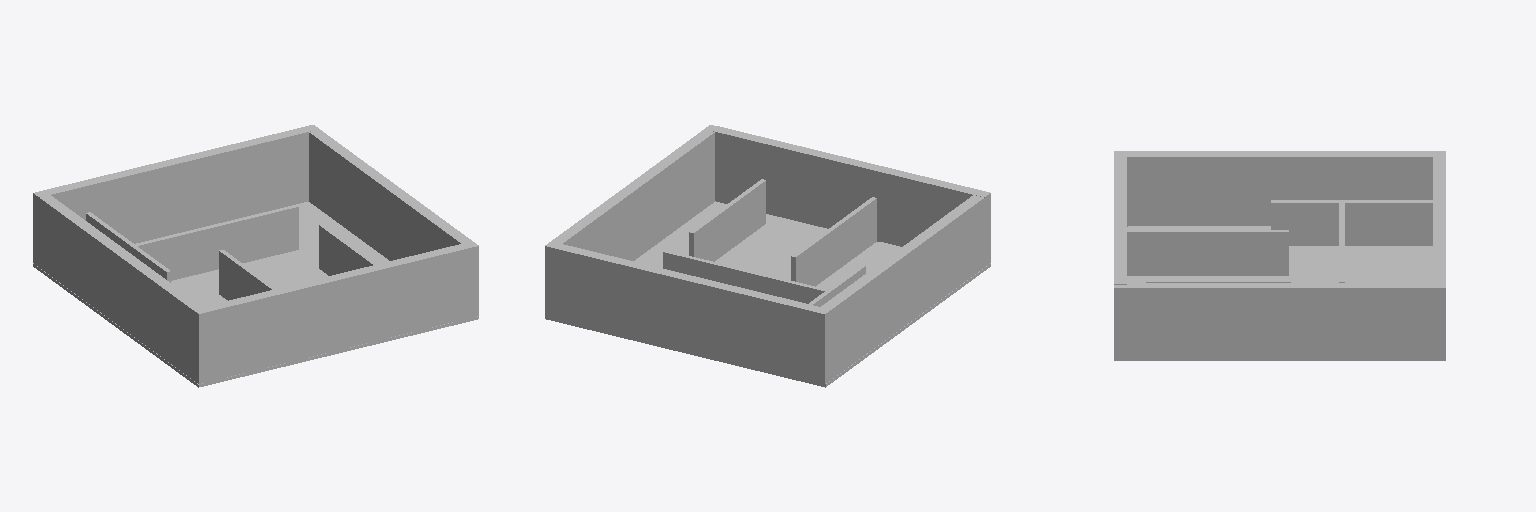
File: Terrain.obj
3 views of the same model, side by side, from view 1: azimuth 30°, elevation 25°; view 2: azimuth 150°, elevation 25°; view 3: azimuth 270°, elevation 25° (orthographic).
Parts seen in each view (by area): view 1: Wall, WallInner, NavMesh, _Floor; view 2: Wall, WallInner, NavMesh, _Floor; view 3: Wall, WallInner, NavMesh, _Floor.
Boxes of the visible parts, <box> form: Wall: <box>33,125,478,383</box>; WallInner: <box>86,205,377,300</box>; NavMesh: <box>136,202,388,306</box>; _Floor: <box>33,248,478,387</box>; Wall: <box>545,125,990,383</box>; WallInner: <box>663,179,876,306</box>; NavMesh: <box>634,201,901,289</box>; _Floor: <box>545,222,990,387</box>; Wall: <box>1114,151,1445,357</box>; WallInner: <box>1127,200,1432,282</box>; NavMesh: <box>1128,226,1430,282</box>; _Floor: <box>1114,227,1445,360</box>.
Bounding box in the file's own units: 50.33 × 12.58 × 51.51.